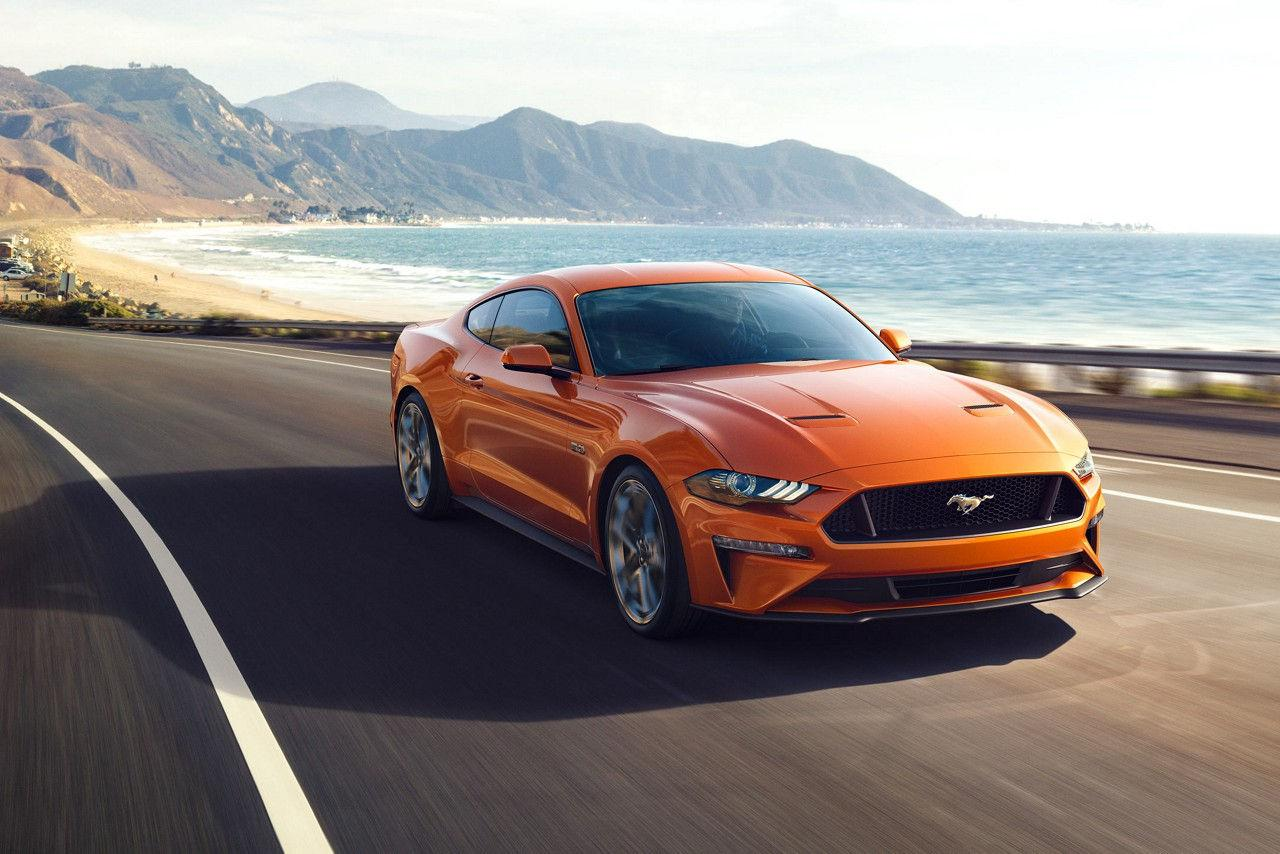car: (367, 243, 1156, 657)
